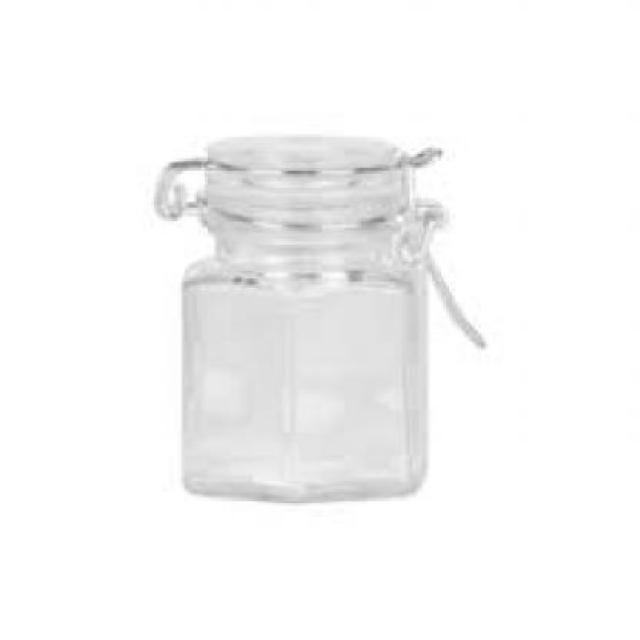GLASS: (185, 139, 432, 501)
